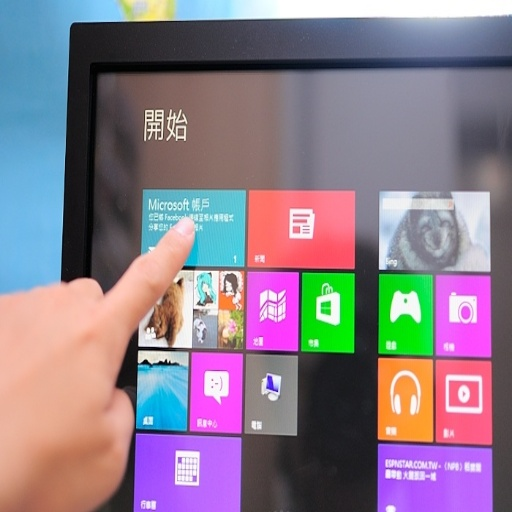hand: (22, 231, 193, 486)
